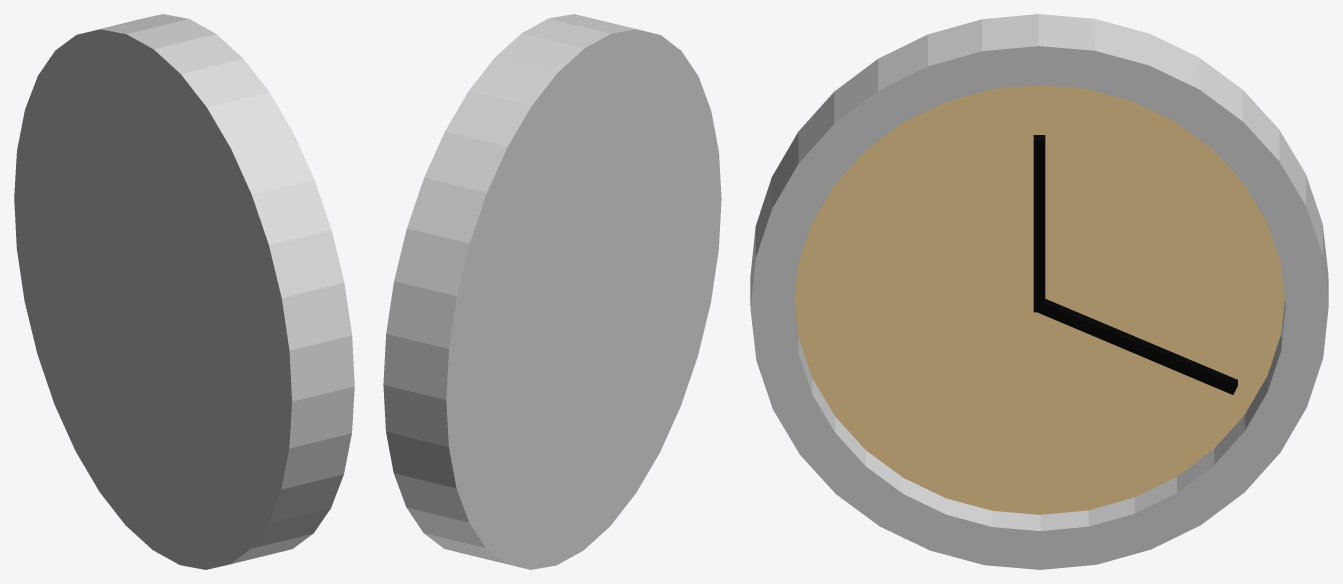
File: clock.fbx
3 renders of one model, left to right at view 1: azimuth 30°, elevation 25°; view 2: azimuth 150°, elevation 25°; view 3: azimuth 270°, elevation 25°, orthographic. The views are drawn at different scales.
Visible parts, largest first — view 1: Cylinder; view 2: Cylinder; view 3: Cylinder.001, Cylinder, Cube.001, Cube.
Boxes of the visible parts, x1,y1,x2,y2 form: Cylinder: (14,14,354,569); Cylinder: (383,14,721,569); Cylinder.001: (794,85,1284,514); Cylinder: (750,14,1328,569); Cube.001: (1034,299,1237,394); Cube: (1033,135,1045,312).
Bounding box in the file's own units: 26.75 × 200 × 200.
